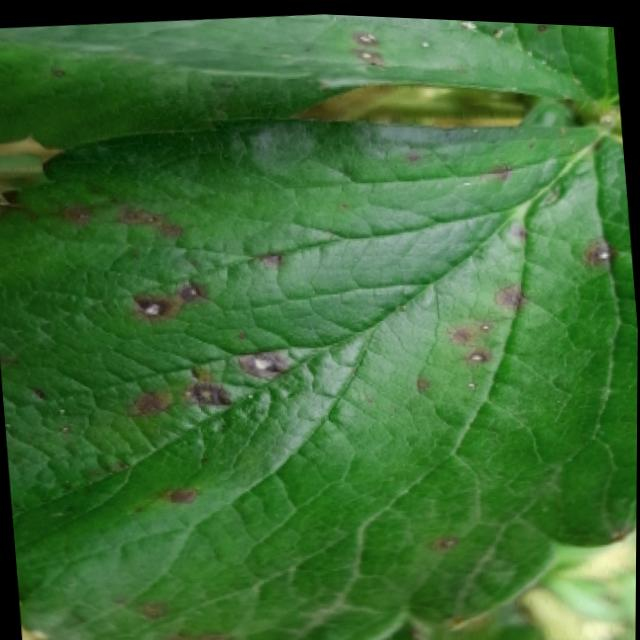Leaf Spot: (0, 112, 638, 640), (0, 11, 620, 101), (0, 40, 363, 149)
